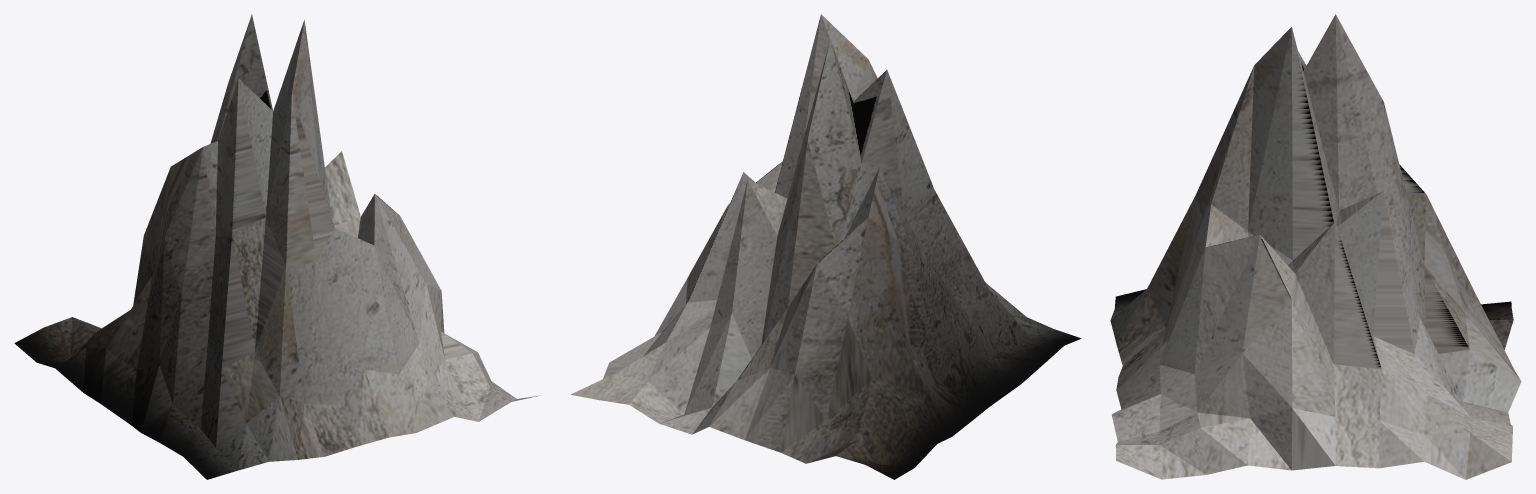
Rendered from berg.fbx.
3 views of the same model, side by side, from view 1: azimuth 30°, elevation 25°; view 2: azimuth 150°, elevation 25°; view 3: azimuth 270°, elevation 25° (orthographic). The views are drawn at different scales.
Parts seen in each view (by area): view 1: Landschaft_1; view 2: Landschaft_1; view 3: Landschaft_1.
Part boxes in pixels (box(x1,y1,x2,y2)): Landschaft_1: box(14, 14, 538, 479); Landschaft_1: box(570, 14, 1081, 479); Landschaft_1: box(1110, 14, 1521, 479).
Bounding box in the file's own units: 7954 × 8236 × 8085.
